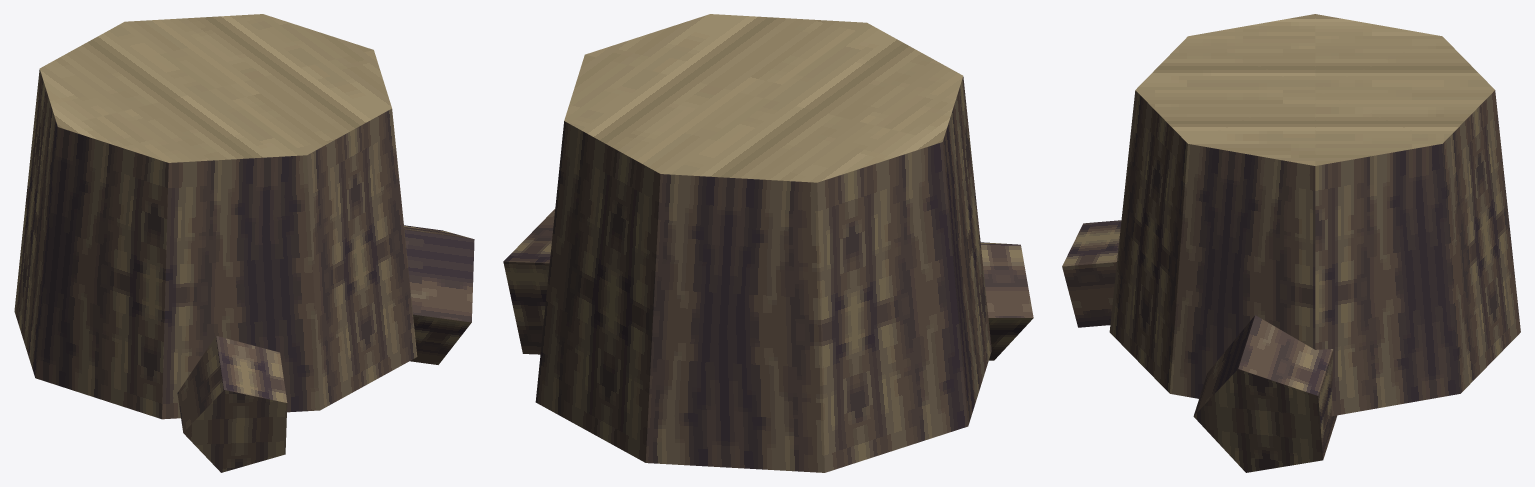
File: stump.glb
3 renders of one model, left to right at view 1: azimuth 30°, elevation 25°; view 2: azimuth 150°, elevation 25°; view 3: azimuth 270°, elevation 25°, orthographic. The views are drawn at different scales.
Parts seen in each view (by area): view 1: stump; view 2: stump; view 3: stump.
Part boxes in pixels (left/top/right/bottom): stump: left=14, top=14, right=474, bottom=472; stump: left=503, top=14, right=1033, bottom=472; stump: left=1062, top=14, right=1520, bottom=472.
Bounding box in the file's own units: 0.906 × 0.6281 × 0.8925.
Materials: 2 (2 with a texture image).
